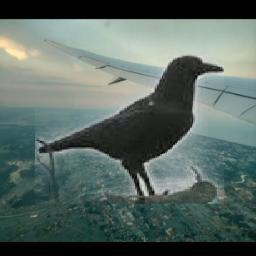Crow: (36, 54, 225, 204)
